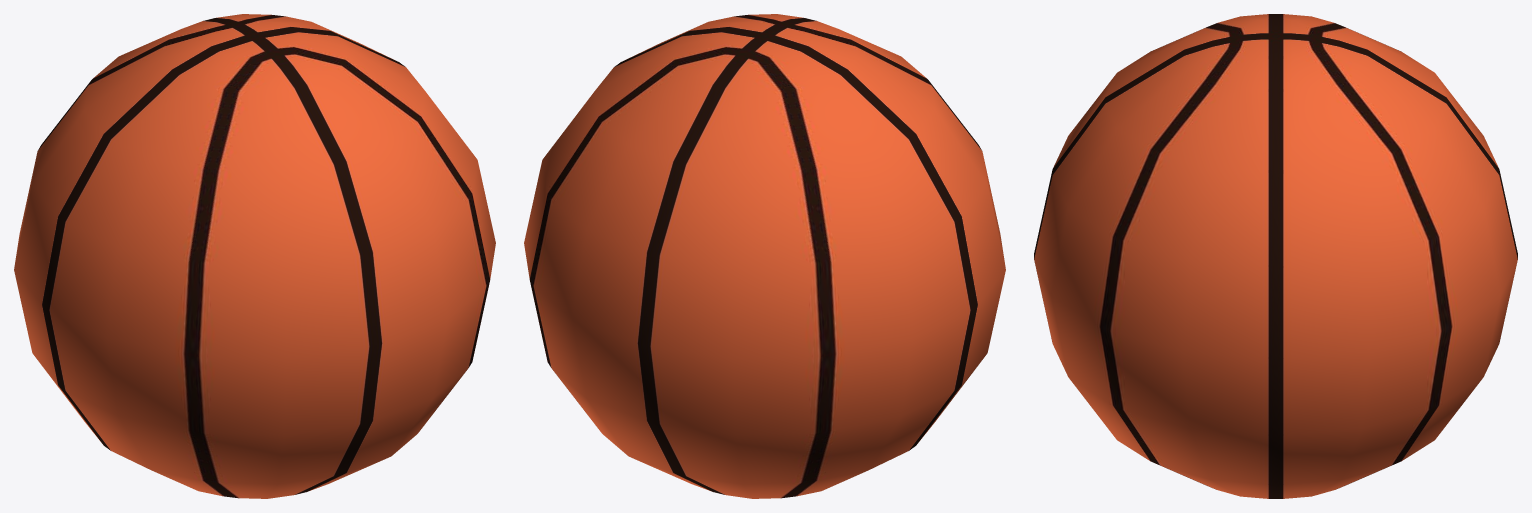
The model's file is BasketBall_1.FBX.
The picture shows the model from 3 angles, left to right: view 1: azimuth 30°, elevation 25°; view 2: azimuth 150°, elevation 25°; view 3: azimuth 270°, elevation 25°; orthographic projection.
Visible parts, largest first — view 1: BasketBall_1; view 2: BasketBall_1; view 3: BasketBall_1.
Boxes of the visible parts, x1=… form: BasketBall_1: x1=14, y1=14, x2=495, y2=498; BasketBall_1: x1=524, y1=14, x2=1005, y2=498; BasketBall_1: x1=1034, y1=14, x2=1517, y2=498.
Size of the model in its own units: 2.5 by 2.51 by 2.5.
